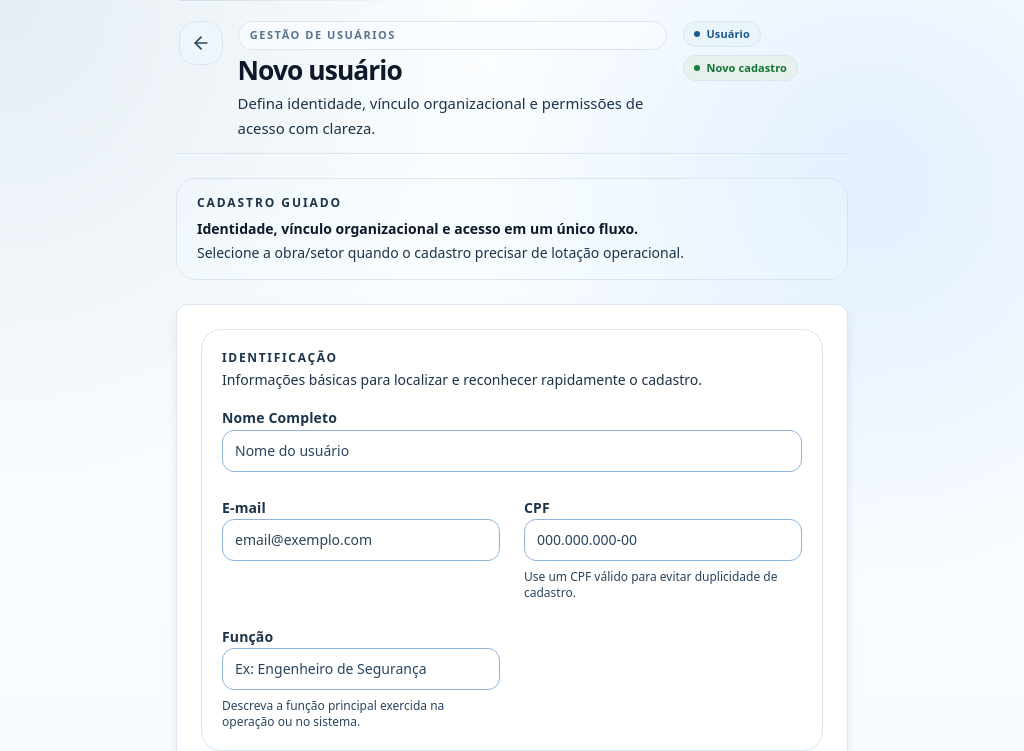
Scenario: UserForm › mostra erro CPF inválido para dígitos iguais
This screenshot has width=1024, height=751.
Type "Funcionário Teste" into the field labelled "Nome Completo".
click(512, 451); type("Funcionário Teste")  # box [222,430,802,472]
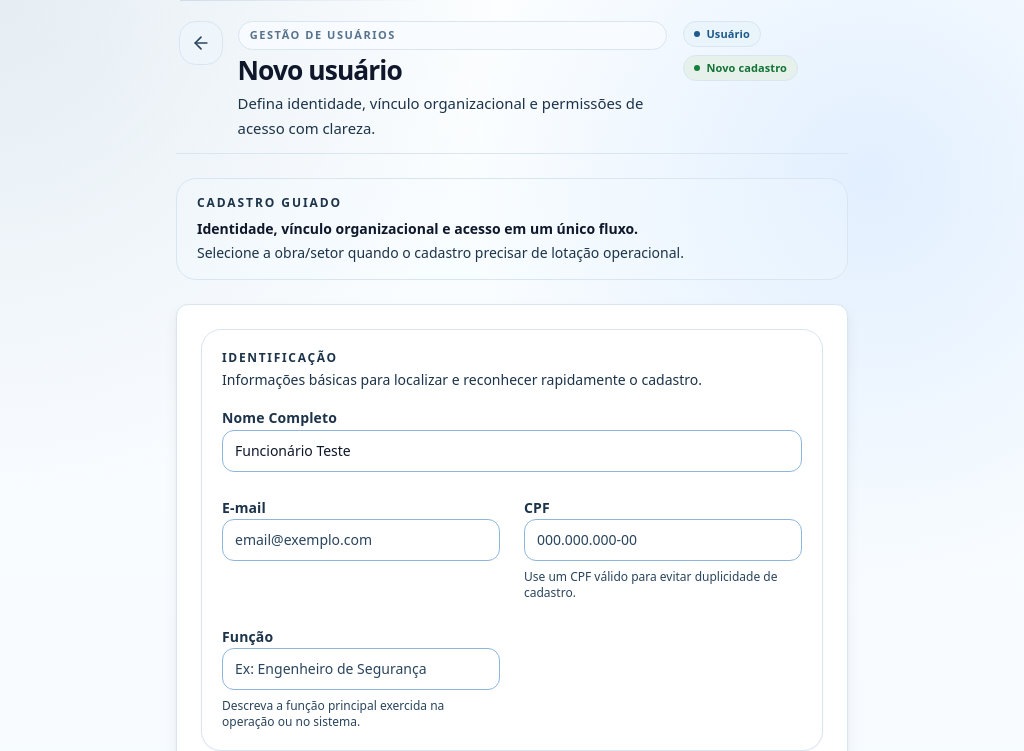
Type "Técnico" into the field labelled "Função".
click(361, 669); type("Técnico")  # box [222,648,500,690]
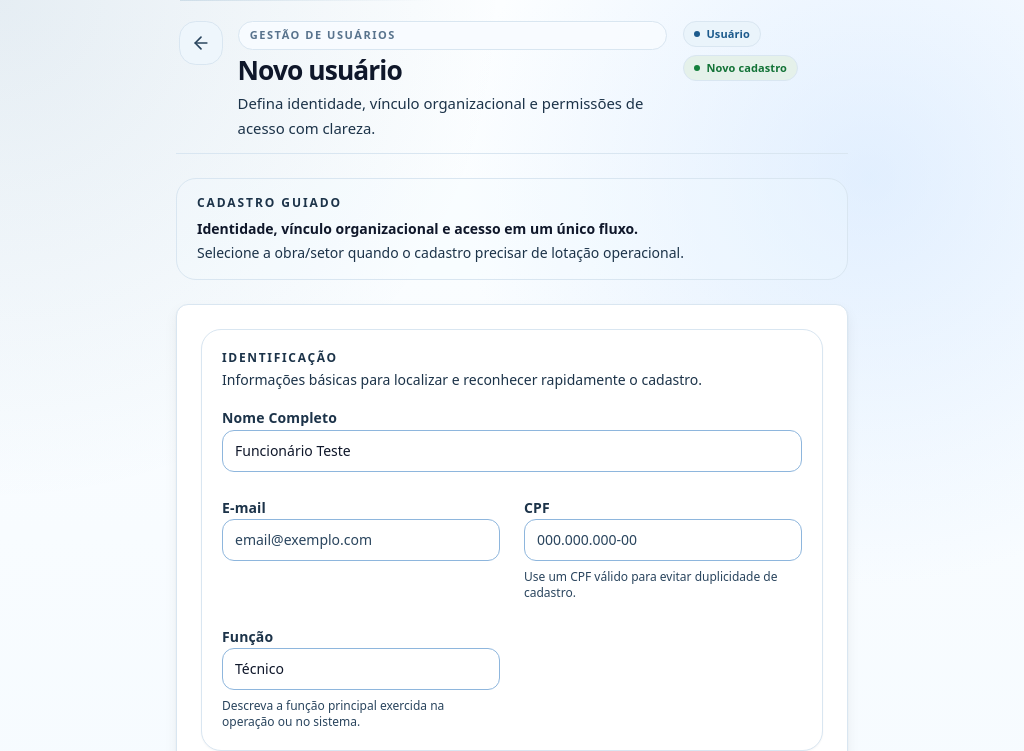
Type "111.111.111-11" into the field labelled "CPF".
click(663, 540); type("111.111.111-11")  # box [524,519,802,561]
(page scrolled)
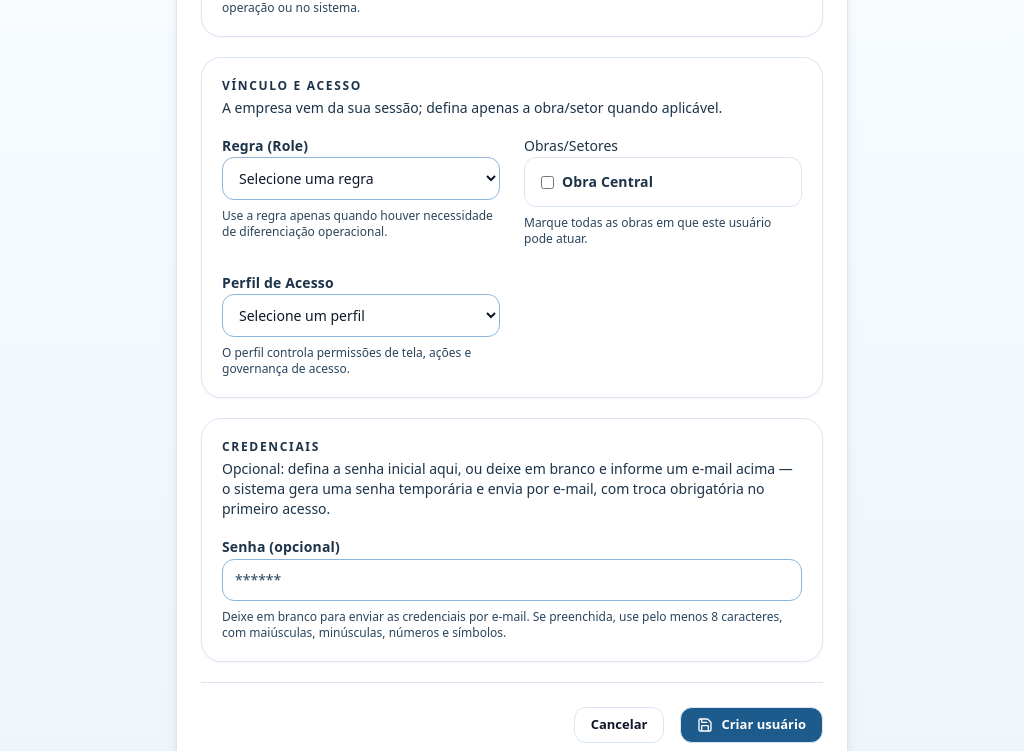
Click the button "Criar usuário".
click(752, 725)  # box [680,707,823,743]
(page scrolled)
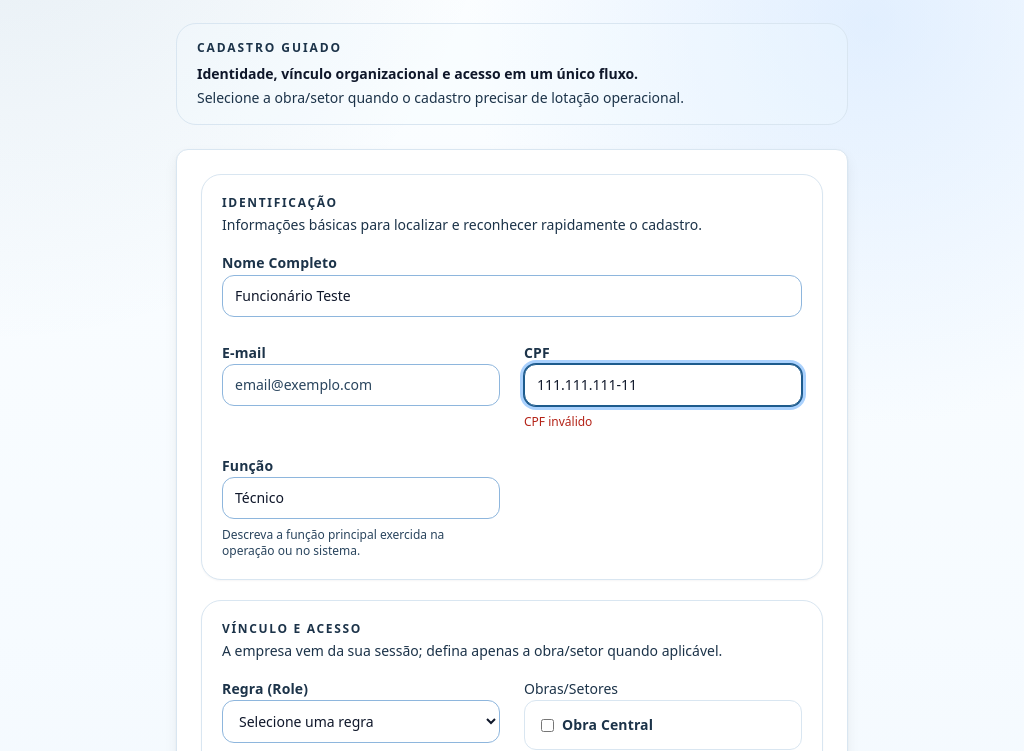
Check: the text "CPF inválido" is shown, box [524,413,592,430]
